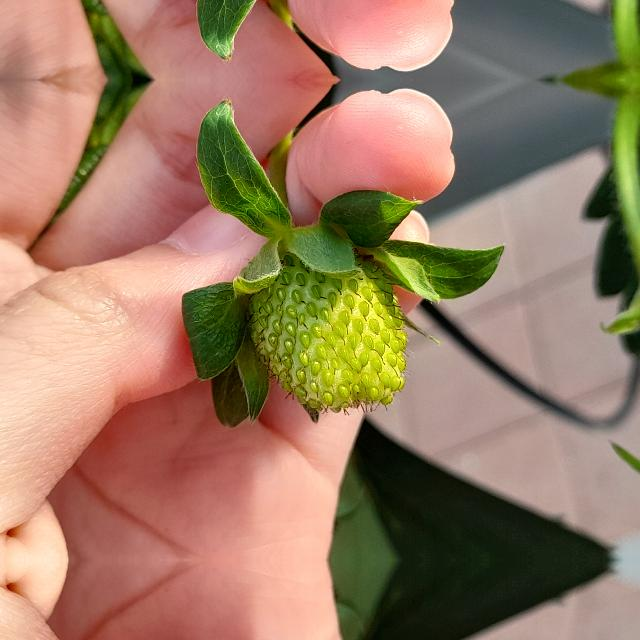Health_25: (245, 241, 415, 415)
